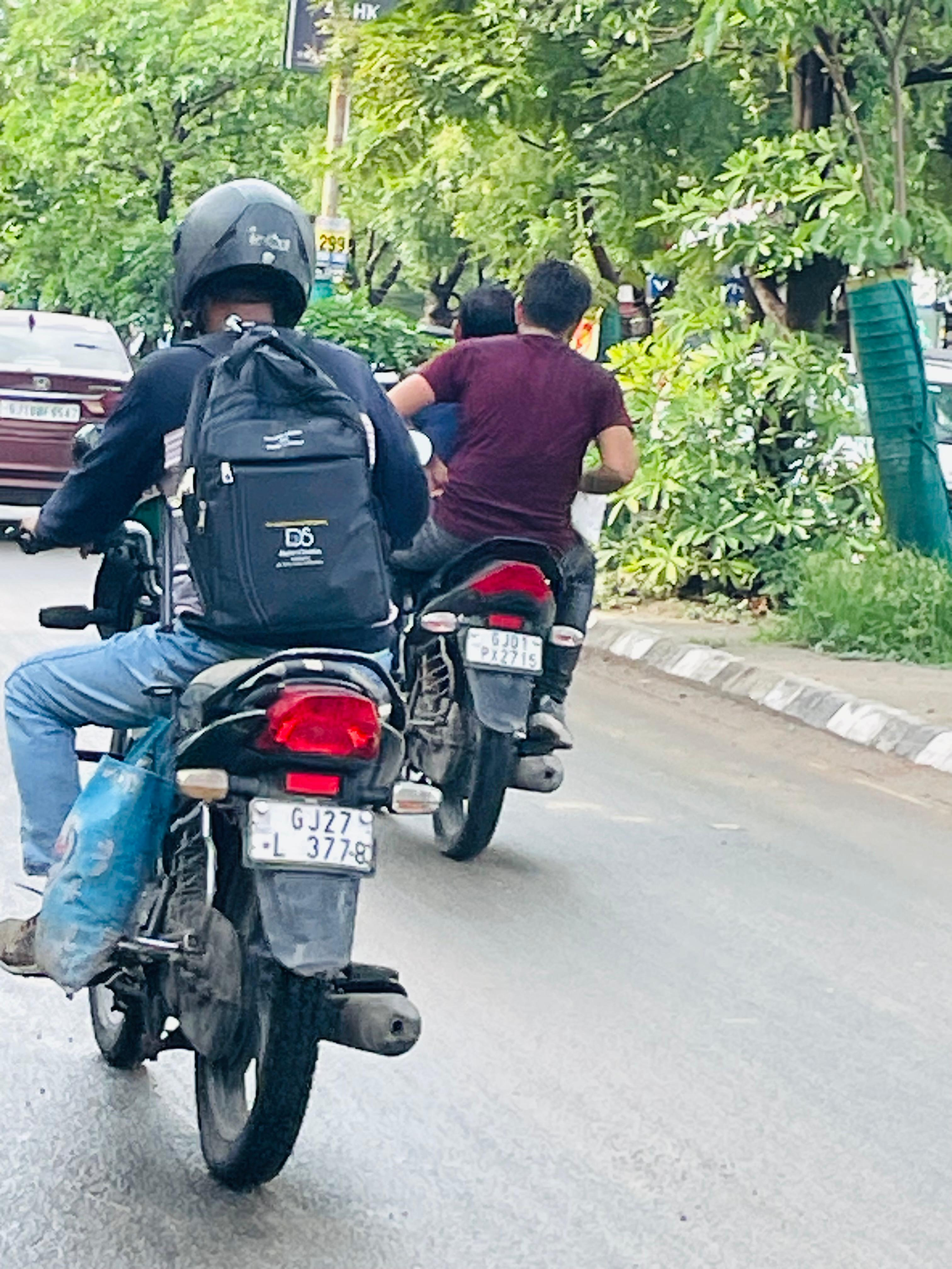BikeWithRider: (0, 164, 458, 1207), (365, 246, 652, 870)
Helmet: (153, 166, 328, 353)
NoHelmet: (509, 251, 601, 351), (447, 275, 528, 349)
